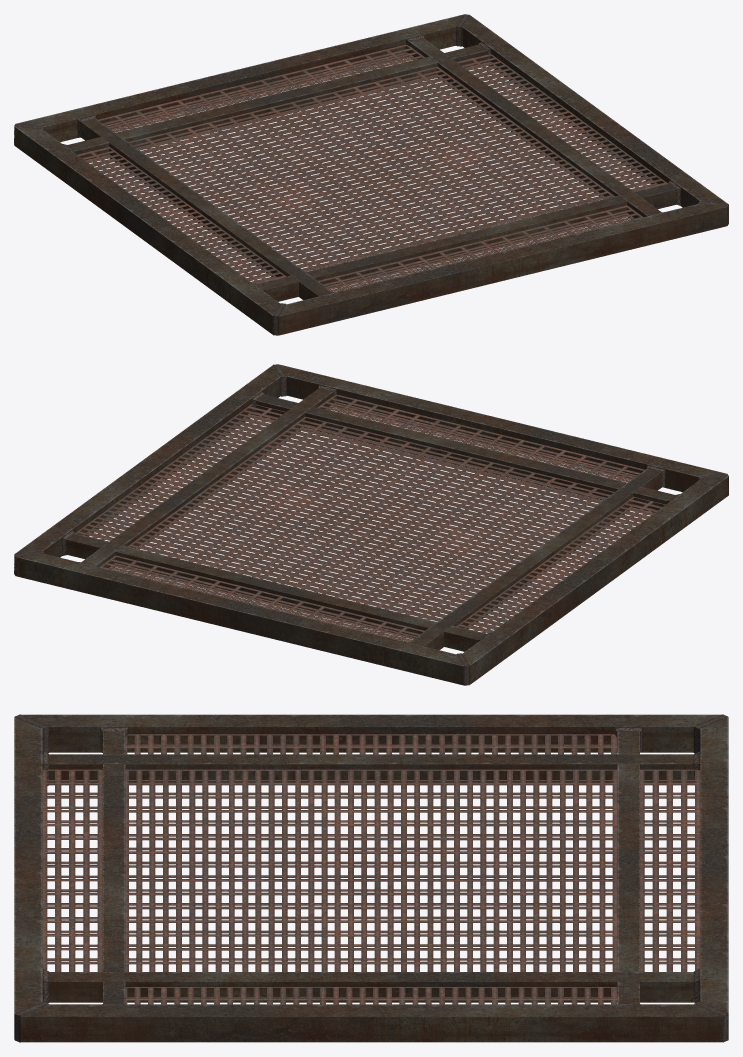
File: SM_Sewer_Cage_Floor_C.fbx
The picture shows the model from 3 angles, top to bottom: view 1: azimuth 30°, elevation 25°; view 2: azimuth 150°, elevation 25°; view 3: azimuth 270°, elevation 25°; orthographic projection. The views are drawn at different scales.
Parts seen in each view (by area): view 1: SM_Sewer_Cage_Floor_C; view 2: SM_Sewer_Cage_Floor_C; view 3: SM_Sewer_Cage_Floor_C.
Part boxes in pixels (x1,y1,x2,y2): SM_Sewer_Cage_Floor_C: (14, 14, 728, 335); SM_Sewer_Cage_Floor_C: (14, 364, 728, 685); SM_Sewer_Cage_Floor_C: (14, 714, 728, 1042).
Bounding box in the file's own units: 250 × 10.24 × 250.
